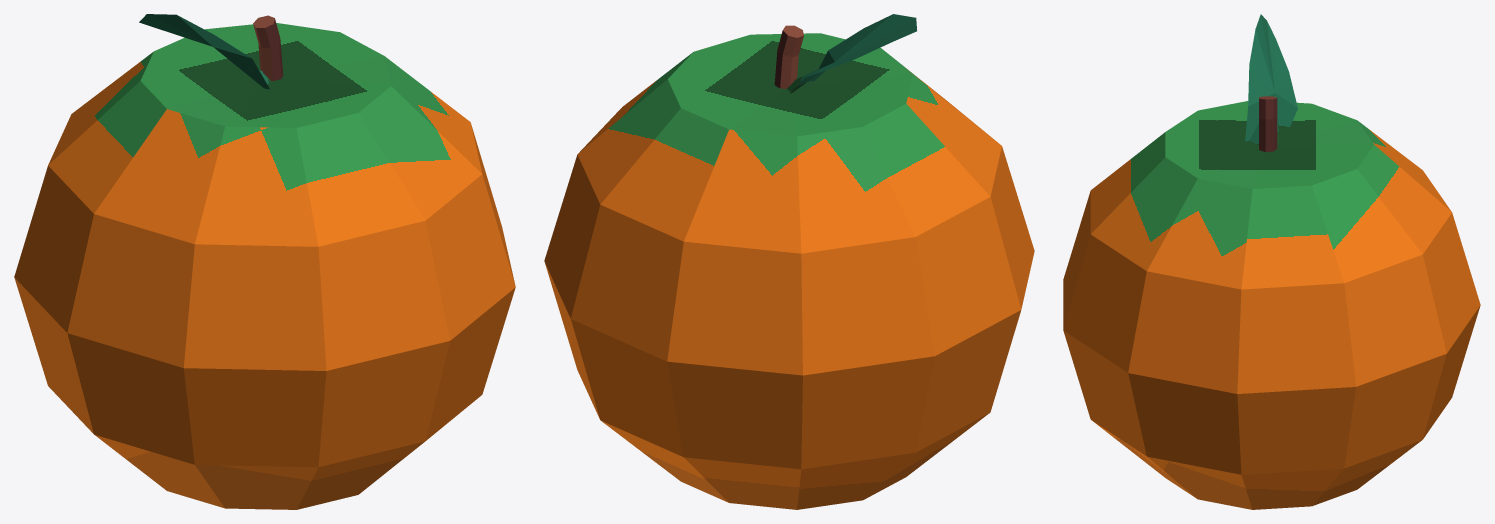
The model's file is Orange Topper.gltf.
3 renders of one model, left to right at view 1: azimuth 30°, elevation 25°; view 2: azimuth 150°, elevation 25°; view 3: azimuth 270°, elevation 25°, orthographic. The views are drawn at different scales.
Parts seen in each view (by area): view 1: body, leaf, stem; view 2: body, leaf, stem; view 3: body, leaf, stem.
Part boxes in pixels (x1,y1,x2,y2): body: [14, 23, 515, 509]; leaf: [139, 14, 270, 89]; stem: [253, 15, 283, 80]; body: [544, 33, 1034, 509]; leaf: [787, 14, 916, 93]; stem: [774, 25, 803, 88]; body: [1063, 101, 1480, 509]; leaf: [1245, 14, 1297, 144]; stem: [1259, 96, 1277, 152].
Size of the model in its own units: 0.4513 by 0.5025 by 0.4467.
1 material, 1 textured.
